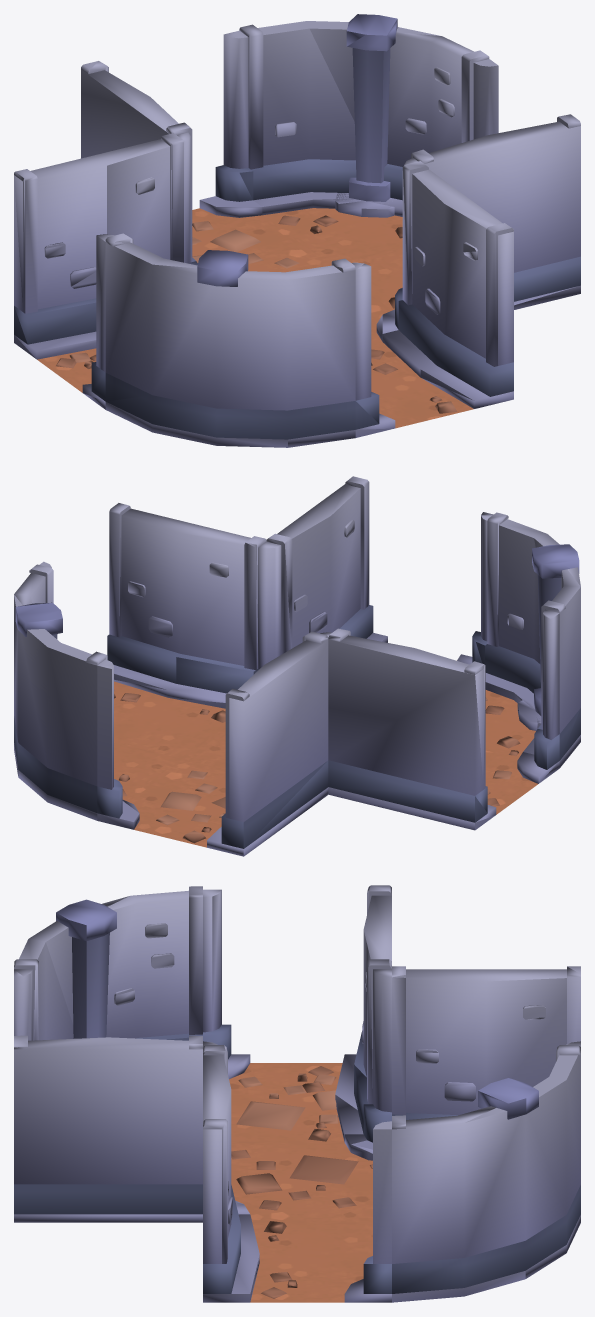
File: room-small-variation.fbx
The picture shows the model from 3 angles, top to bottom: view 1: azimuth 30°, elevation 25°; view 2: azimuth 150°, elevation 25°; view 3: azimuth 270°, elevation 25°; orthographic projection. The views are drawn at different scales.
Visible parts, largest first — view 1: room-small-variation; view 2: room-small-variation; view 3: room-small-variation.
Boxes of the visible parts, x1,y1,x2,y2 form: room-small-variation: [14, 14, 580, 447]; room-small-variation: [14, 476, 580, 856]; room-small-variation: [14, 885, 580, 1302].
Bounding box in the file's own units: 1200 × 423 × 1200.
